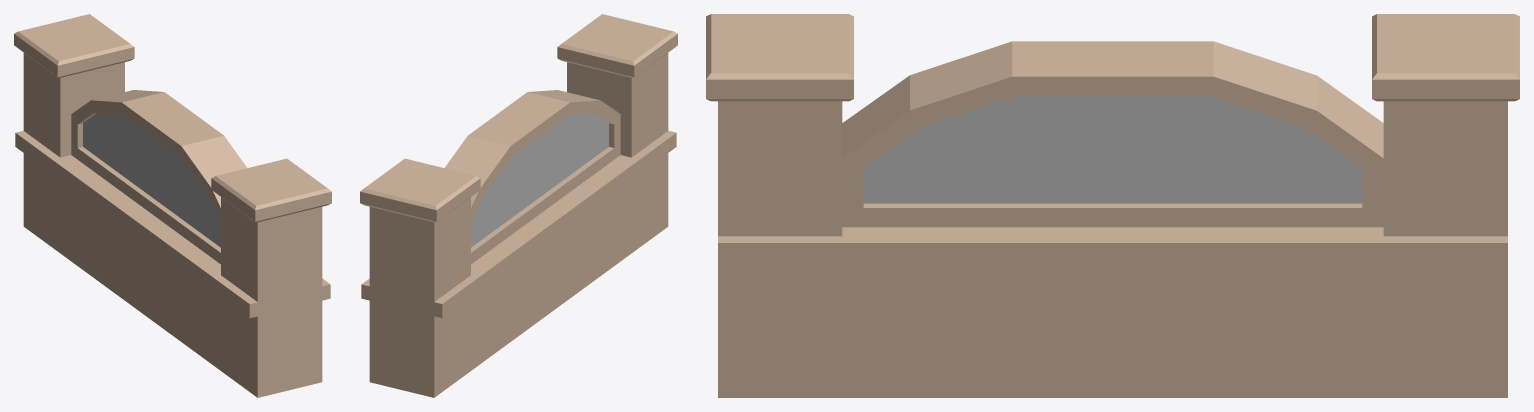
The model's file is Stone Fence 3.fbx.
3 views of the same model, side by side, from view 1: azimuth 30°, elevation 25°; view 2: azimuth 150°, elevation 25°; view 3: azimuth 270°, elevation 25° (orthographic). The views are drawn at different scales.
Visible parts, largest first — view 1: Stone Fence 3; view 2: Stone Fence 3; view 3: Stone Fence 3.
Boxes of the visible parts, x1,y1,x2,y2 form: Stone Fence 3: (14, 14, 331, 397); Stone Fence 3: (360, 14, 677, 397); Stone Fence 3: (706, 14, 1519, 397).
Bounding box in the file's own units: 0.7299 × 3.77 × 1.67.
